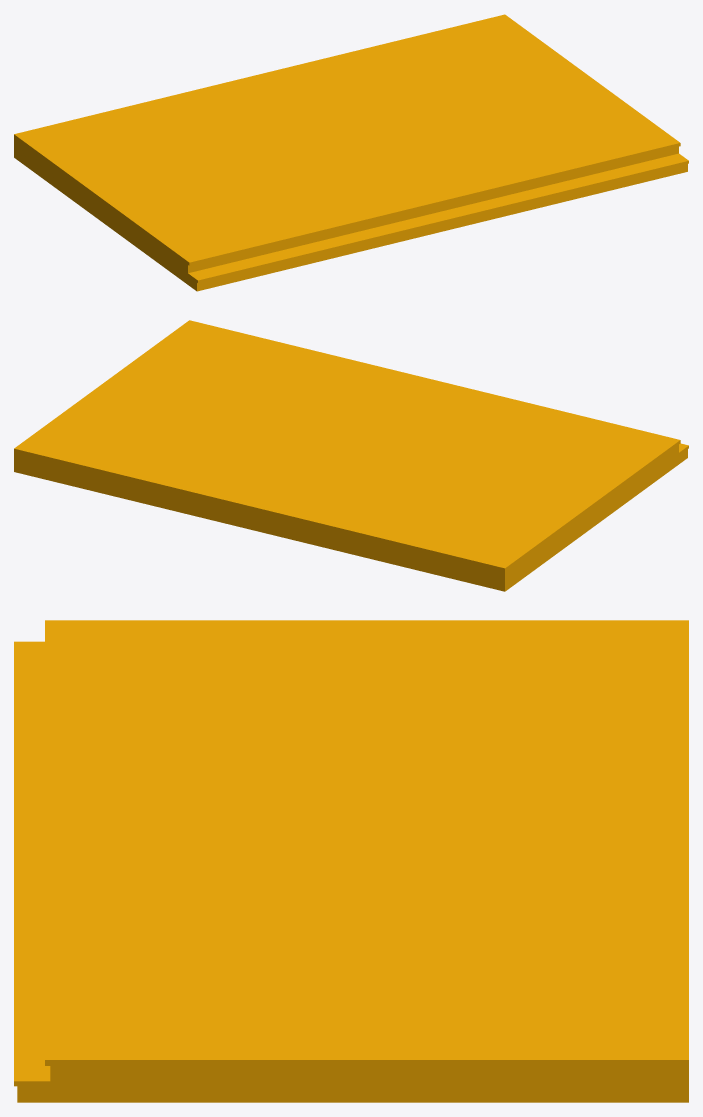
The model's file is floor2.obj.
3 renders of one model, top to bottom at view 1: azimuth 30°, elevation 25°; view 2: azimuth 150°, elevation 25°; view 3: azimuth 270°, elevation 25°, orthographic. The views are drawn at different scales.
Parts seen in each view (by area): view 1: pCube1 floor; view 2: pCube1 floor; view 3: pCube1 floor.
Boxes of the visible parts, bbox=[...] form: pCube1 floor: bbox=[14, 14, 688, 291]; pCube1 floor: bbox=[14, 320, 688, 591]; pCube1 floor: bbox=[14, 620, 688, 1102].
Size of the model in its own units: 660 by 30 by 428.
